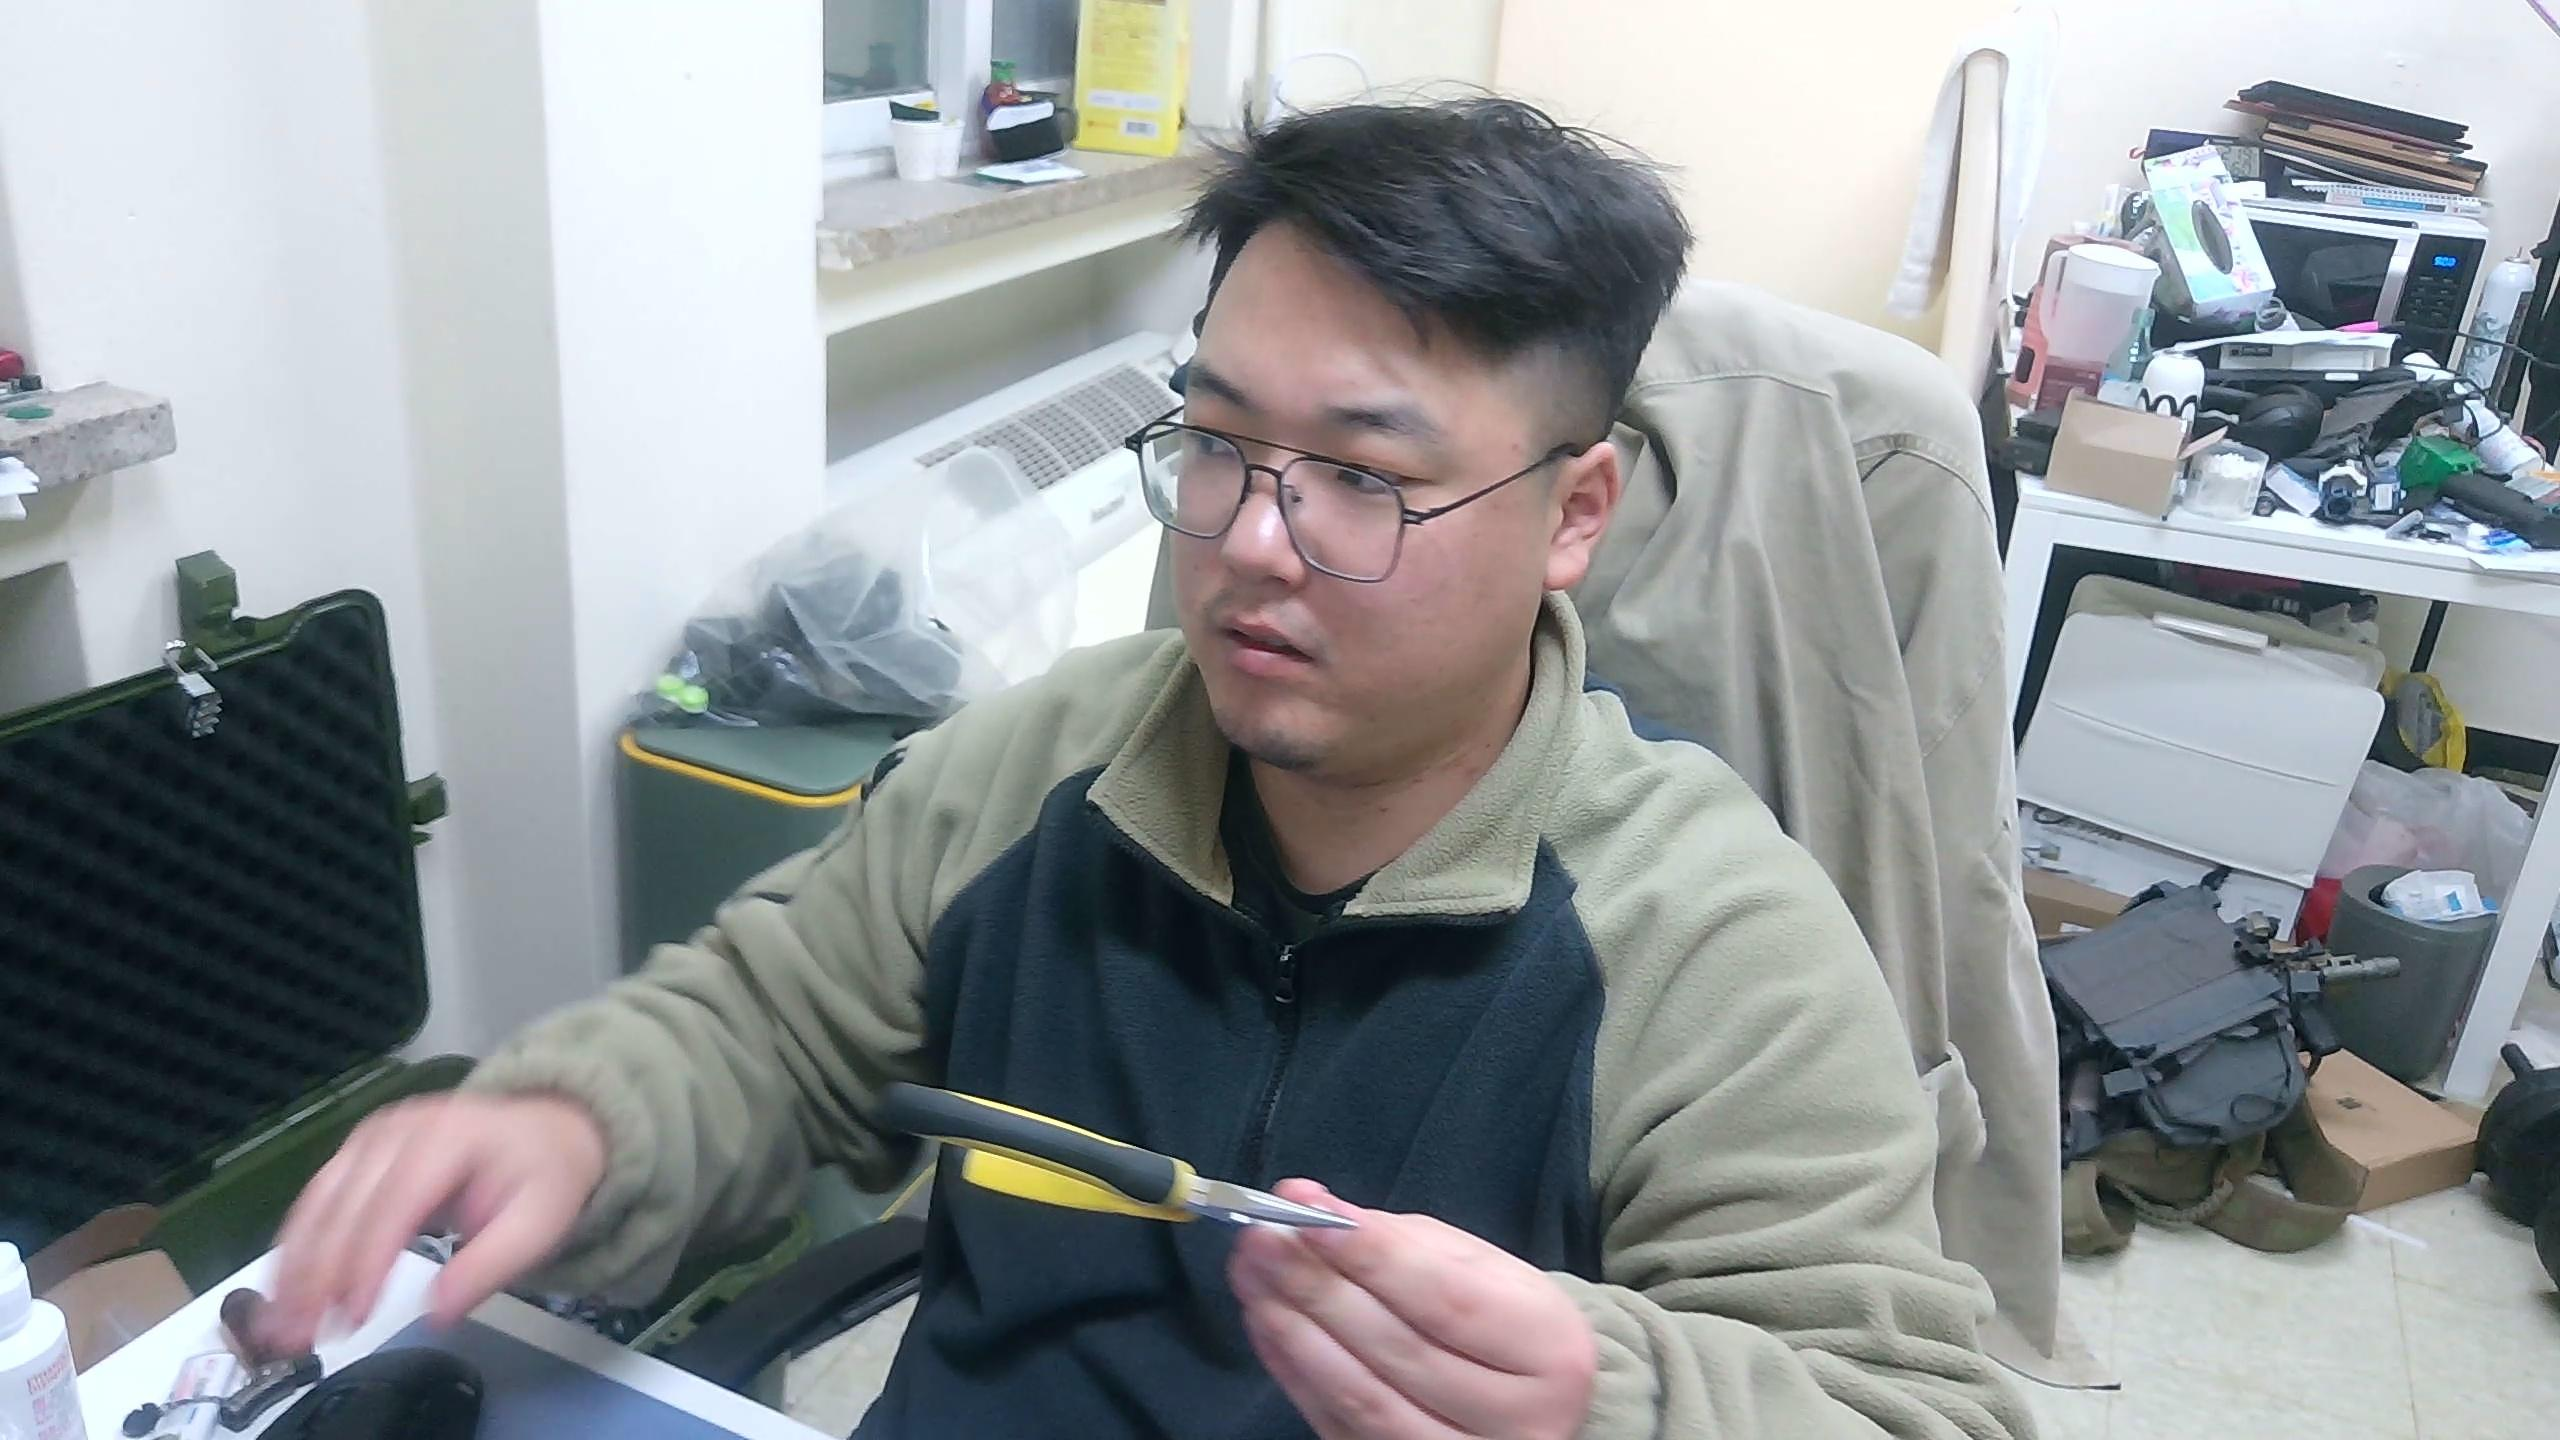earphone: (874, 1074, 1366, 1240)
